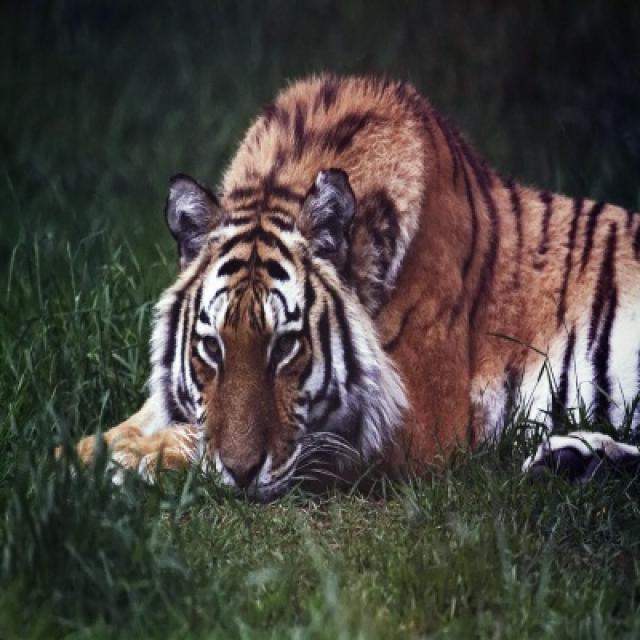Tiger: (68, 75, 638, 498)
